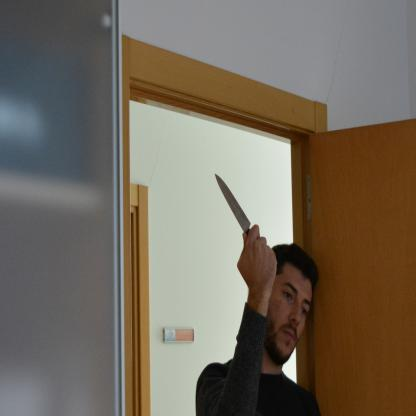knife: (212, 168, 256, 244)
